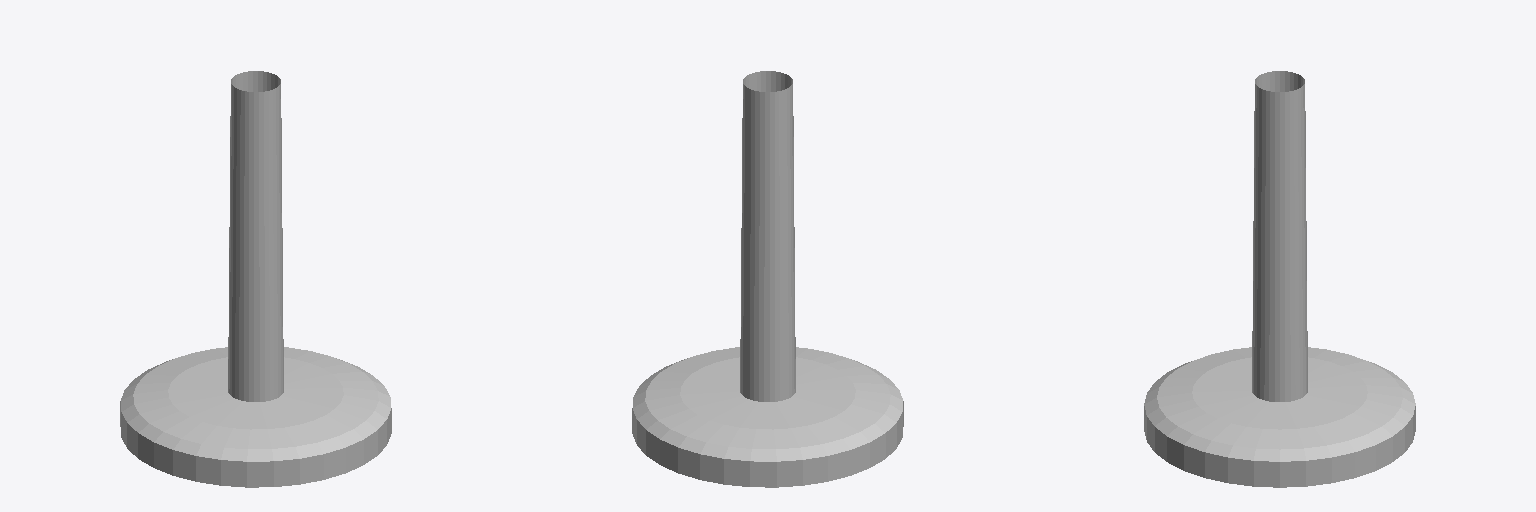
Rendered from meja1-1.obj.
The picture shows the model from 3 angles: view 1: azimuth 30°, elevation 25°; view 2: azimuth 150°, elevation 25°; view 3: azimuth 270°, elevation 25°; orthographic projection.
Visible parts, largest first — view 1: Cube.004_Cube.279_Cube.004_Cube.004; view 2: Cube.004_Cube.279_Cube.004_Cube.004; view 3: Cube.004_Cube.279_Cube.004_Cube.004.
Part boxes in pixels (x1,y1,x2,y2): Cube.004_Cube.279_Cube.004_Cube.004: (120,71,391,487); Cube.004_Cube.279_Cube.004_Cube.004: (632,71,903,487); Cube.004_Cube.279_Cube.004_Cube.004: (1144,71,1415,487).
Bounding box in the file's own units: 1.77 × 2.51 × 1.77.